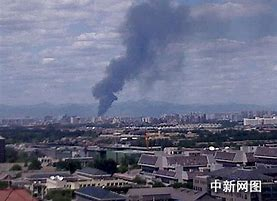smoke: (91, 1, 189, 115)
